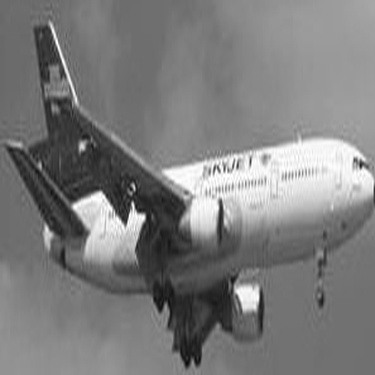airplane: (1, 22, 373, 367)
